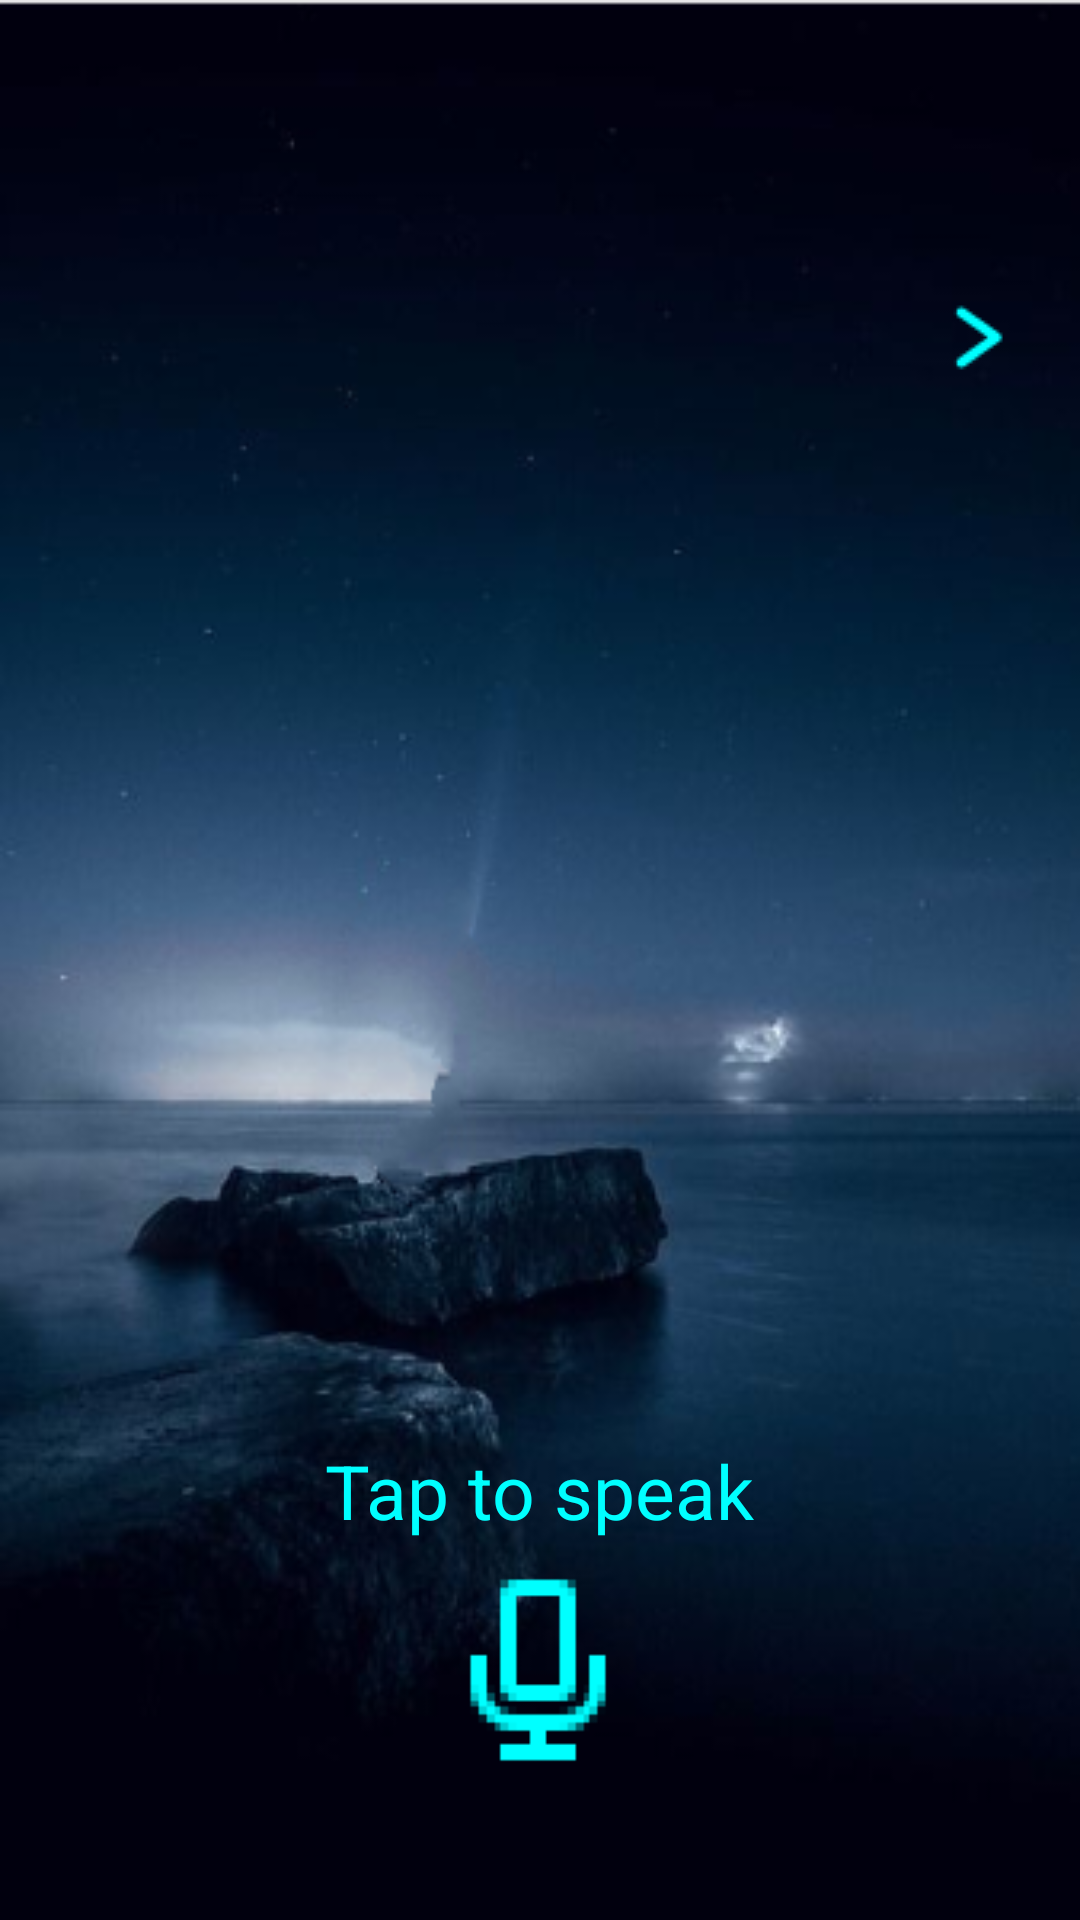

Screen size 1080×1920. Icon name, then its box in pixels as {"left": x1, "top": y1, "right": x2, "bottom": y2}:
ex mike: {"left": 403, "top": 1550, "right": 673, "bottom": 1761}
redirect: {"left": 955, "top": 305, "right": 1003, "bottom": 370}
